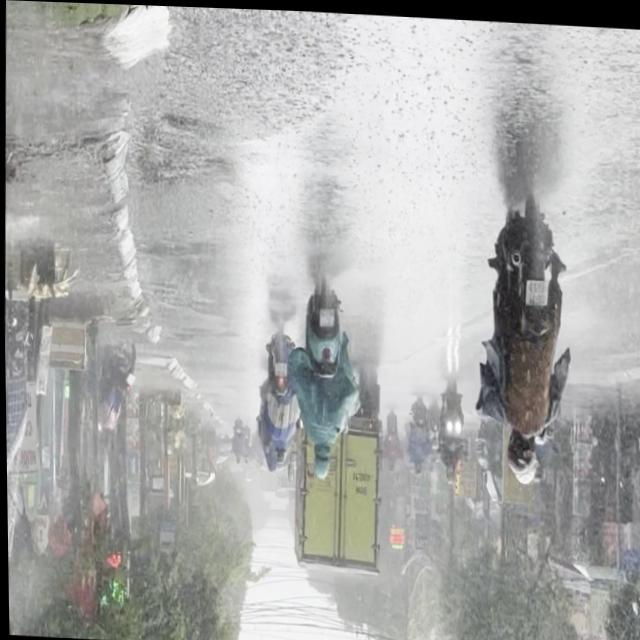helmet: (505, 427, 537, 480), (311, 444, 330, 478)
licenseplate: (477, 184, 573, 488), (291, 264, 359, 481)
nohelmet: (525, 277, 547, 303), (318, 307, 333, 326)
